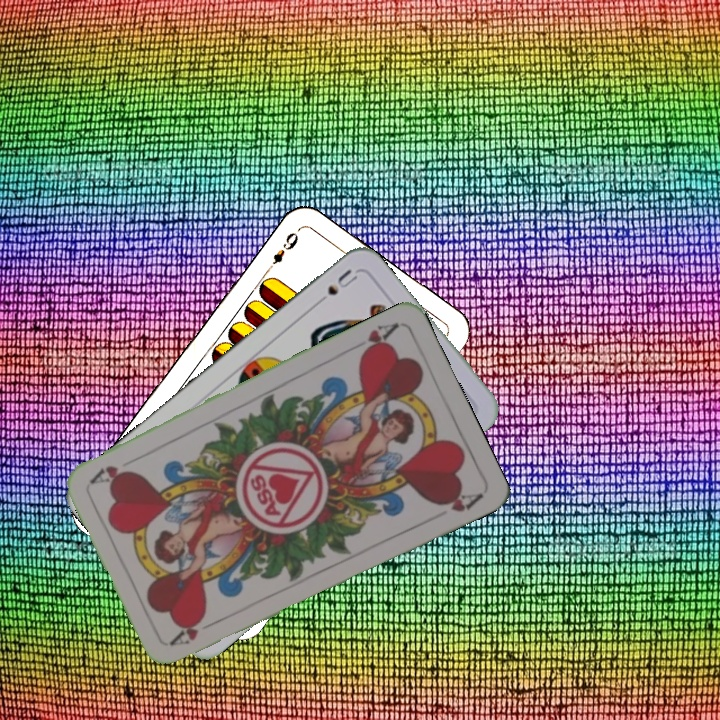E9: (262, 228, 301, 275)
HA: (167, 612, 223, 649), (355, 318, 402, 360)
SU: (310, 265, 360, 310)
